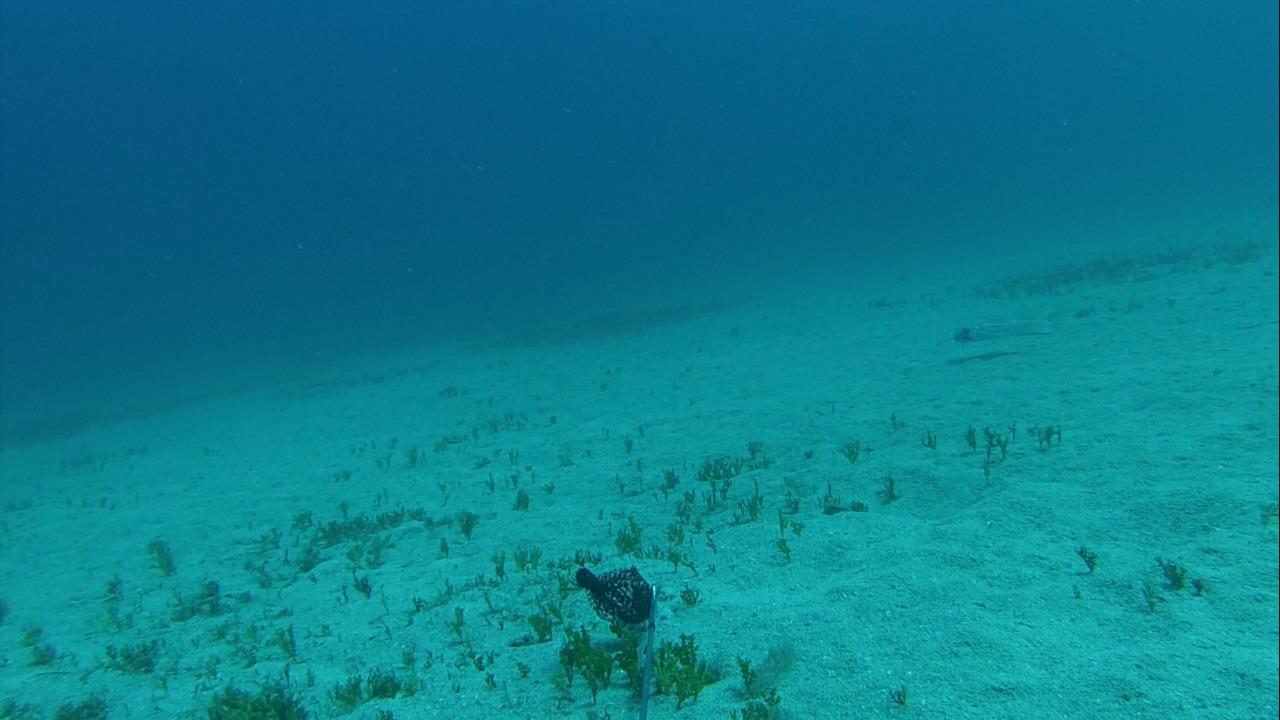dactylopterus: (943, 314, 1057, 351)
